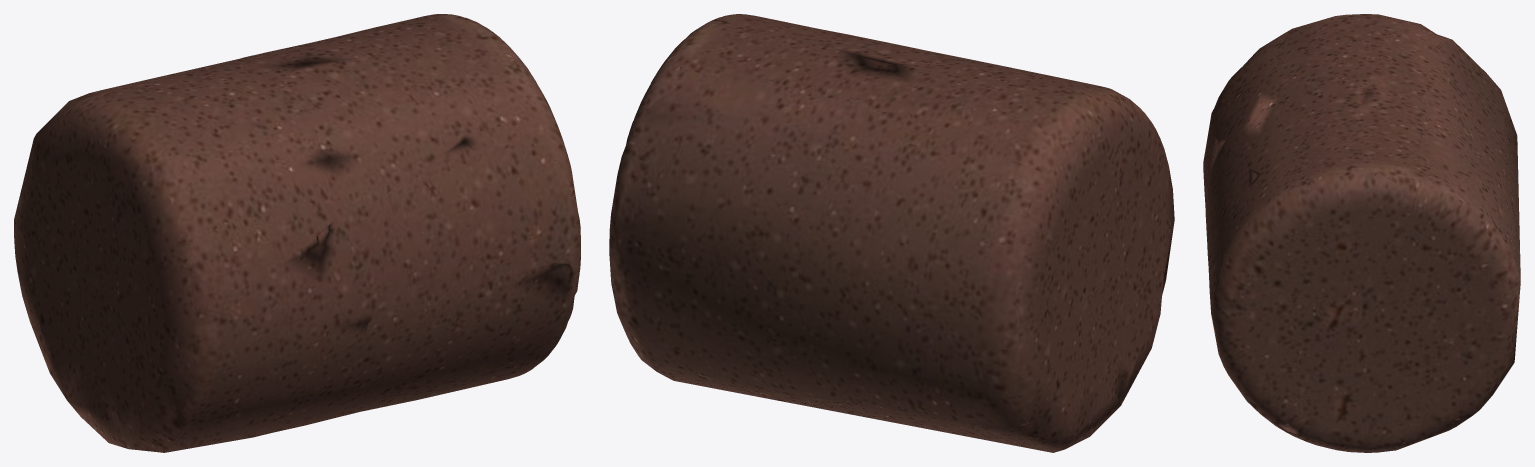
Rendered from user_pellet_lod.glb.
3 views of the same model, side by side, from view 1: azimuth 30°, elevation 25°; view 2: azimuth 150°, elevation 25°; view 3: azimuth 270°, elevation 25° (orthographic). The views are drawn at different scales.
Size of the model in its own units: 1.93 by 1.52 by 1.5.
1 material, 1 textured.
